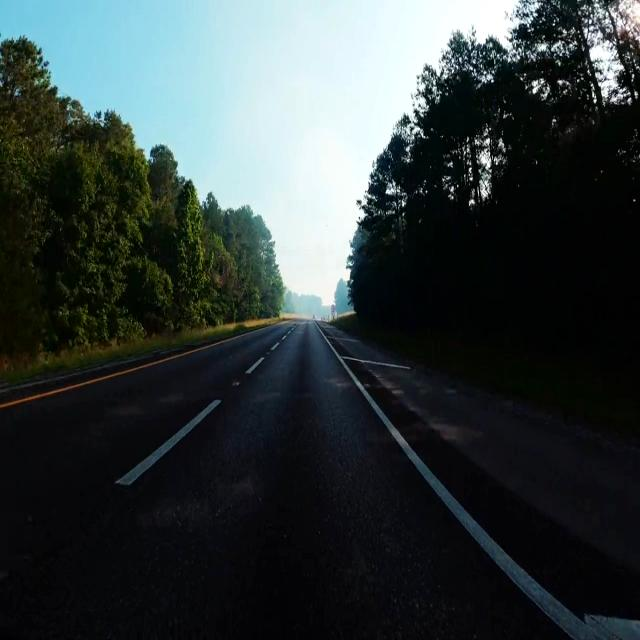road: (0, 322, 565, 637), (383, 402, 640, 617)
